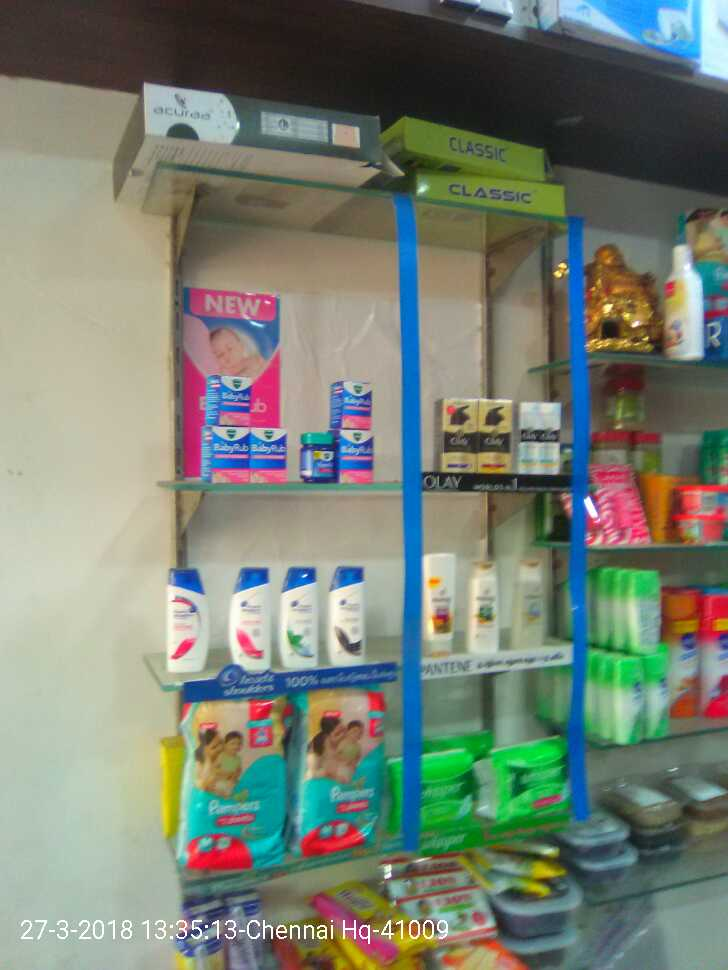vicks: (206, 374, 288, 481), (304, 381, 378, 477)
